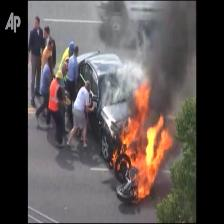fire: (126, 90, 170, 197)
smoke: (102, 0, 196, 90)
